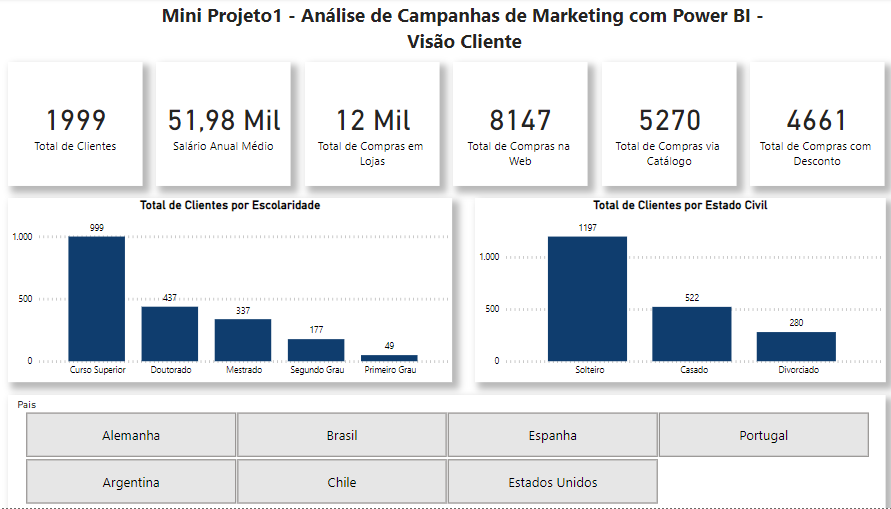

The dashboard page shown, as its layout file describes it:
{"tool":"powerbi","page":{"name":"Visão Cliente","canvas":[1280,720],"ordinal":0},"visuals":[{"type":"card","fields":{"Values":["CountNonNull(DadosMarketing.ID)"]},"box":[12.3,90.5,190,175],"z":0},{"type":"textbox","box":[224.3,0,865.1,84.3],"z":1000},{"type":"card","fields":{"Values":["Avg(DadosMarketing.Salario Anual)"]},"box":[222,90.5,190,174.7],"z":2000},{"type":"card","fields":{"Values":["Sum(DadosMarketing.Numero de Compras na Loja)"]},"box":[431.6,90.5,190,174.7],"z":3000},{"type":"card","fields":{"Values":["Sum(DadosMarketing.Numero de Compras na Web)"]},"box":[641.2,90.5,190,174.7],"z":4000},{"type":"card","fields":{"Values":["Sum(DadosMarketing.Numero de Compras via Catalogo)"]},"box":[850.9,90.5,190,174.7],"z":5000},{"type":"card","fields":{"Values":["Sum(DadosMarketing.Numero de Compras com Desconto)"]},"box":[1060.5,90.5,190,174.7],"z":6000},{"type":"clusteredColumnChart","title":"Total de Clientes por Escolaridade","fields":{"Category":["DadosMarketing.Escolaridade"],"Y":["CountNonNull(DadosMarketing.ID)"]},"box":[12.7,282.7,627.3,260.4],"z":7000},{"type":"clusteredColumnChart","title":"Total de Clientes por Estado Civil","fields":{"Category":["DadosMarketing.Estado Civil"],"Y":["CountNonNull(DadosMarketing.ID)"]},"box":[671.8,282.7,579.7,260.4],"z":8000},{"type":"slicer","fields":{"Values":["DadosMarketing.Pais"]},"box":[12.7,560.6,1238.7,160.4],"z":9000}]}

Visuals, with their boxes in screenshot pixels (x1, y1, x2, y2), scaled from the page's 1280x720 canvas onto the 891x509 screenshot:
card - CountNonNull(DadosMarketing.ID): rect(9, 64, 141, 188)
textbox: rect(156, 0, 758, 60)
card - Avg(DadosMarketing.Salario Anual): rect(155, 64, 287, 187)
card - Sum(DadosMarketing.Numero de Compras na Loja): rect(300, 64, 433, 187)
card - Sum(DadosMarketing.Numero de Compras na Web): rect(446, 64, 579, 187)
card - Sum(DadosMarketing.Numero de Compras via Catalogo): rect(592, 64, 725, 187)
card - Sum(DadosMarketing.Numero de Compras com Desconto): rect(738, 64, 870, 187)
"Total de Clientes por Escolaridade" clusteredColumnChart: rect(9, 200, 446, 384)
"Total de Clientes por Estado Civil" clusteredColumnChart: rect(468, 200, 871, 384)
slicer - DadosMarketing.Pais: rect(9, 396, 871, 508)
